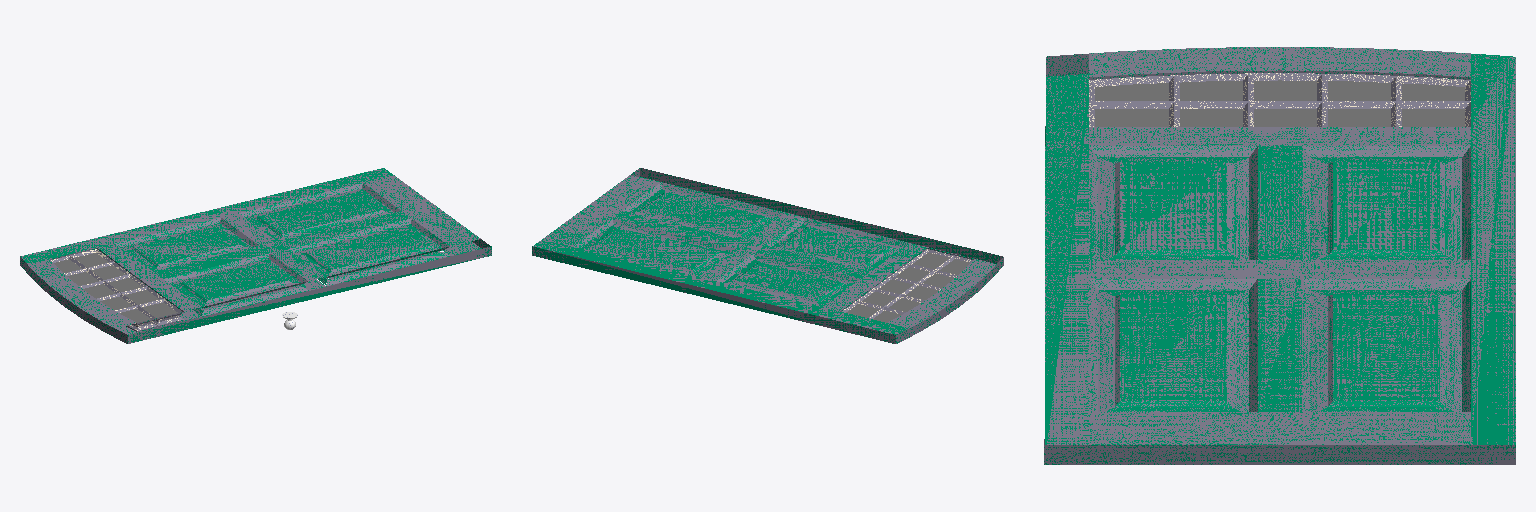
robot.urdf — right-pull-door:
<?xml version="1.0" ?>
<robot name="right-pull-door">
	<link name="base"/>
	<link name="link_0">
		<visual name="out-frame">
			<origin xyz="0 0 0"/>
			<geometry>
				<mesh filename="texture_dae/frame.dae" scale="0.8009712955723166 0.8009712955723166 0.8009712955723166"/>
			</geometry>
		</visual>
		<collision>
			<origin xyz="0 0 0"/>
			<geometry>
				<mesh filename="texture_dae/frame.dae" scale="0.8009712955723166 0.8009712955723166 0.8009712955723166"/>
			</geometry>
		</collision>
	</link>
	<joint name="joint_0" type="fixed">
		<origin rpy="1.570796326794897 0 -1.570796326794897" xyz="0 0 0"/>
		<child link="link_0"/>
		<parent link="base"/>
	</joint>
	<link name="link_1">
		<visual name="surf-board">
			<origin xyz="0.42868061900638704 -0.8318476698307569 0"/>
			<geometry>
				<mesh filename="texture_dae/board.dae" scale="0.8009712955723166 0.8009712955723166 0.8009712955723166"/>
			</geometry>
		</visual>
		<collision>
			<origin xyz="0.42868061900638704 -0.8318476698307569 0"/>
			<geometry>
				<mesh filename="texture_dae/board.dae" scale="0.8009712955723166 0.8009712955723166 0.8009712955723166"/>
			</geometry>
		</collision>
	</link>
	<joint name="joint_1" type="revolute">
		<origin xyz="-0.42868061900638704 0.8318476698307569 0"/>
		<axis xyz="0 -1 0"/>
		<child link="link_1"/>
		<parent link="link_0"/>
		<limit lower="0" upper="1.5079644737231006"/>
	</joint>
	<link name="link_2">
		<visual name="handle">
			<origin xyz="0 0 0"/>
			<geometry>
				<mesh filename="texture_dae/9962009.dae" scale="0.9247012302999892 0.9247012302999892 0.9247012302999892"/>
			</geometry>
		</visual>
		<collision>
			<origin xyz="0 0 0"/>
			<geometry>
				<mesh filename="texture_dae/9962009.dae" scale="0.9247012302999892 0.9247012302999892 0.9247012302999892"/>
			</geometry>
		</collision>
	</link>
	<joint name="joint_2" type="revolute">
		<origin xyz="0.7744761677900371 -0.9089313829935868 0.00059062272969933"/>
		<child link="link_2"/>
		<parent link="link_1"/>
		<axis xyz="0 0 1"/>
		<limit lower="0" upper="1.5079644737231006"/>
	</joint>
</robot>

--- Render facts (derived) ---
3 views of the same robot in one strip: view 1: azimuth 30°, elevation 25°; view 2: azimuth 150°, elevation 25°; view 3: azimuth 270°, elevation 25° (orthographic).
Model right-pull-door with 4 links and 3 joints (2 revolute, 1 fixed), rooted at base, posed all joints at 0.
Visible links, largest first — view 1: link_1; view 2: link_1; view 3: link_1.
Boxes of the visible links, box(x1,y1,x2,y2) form: link_1: box(20, 168, 491, 343); link_1: box(532, 168, 1003, 343); link_1: box(1044, 47, 1515, 464).
Bounding box of the posed robot: 1.71 × 0.8545 × 0.1907 m (x, y, z).
2 mesh visuals loaded from 3 distinct referenced files (2 Collada DAE); not drawn: 1 (file found but could not be loaded).
